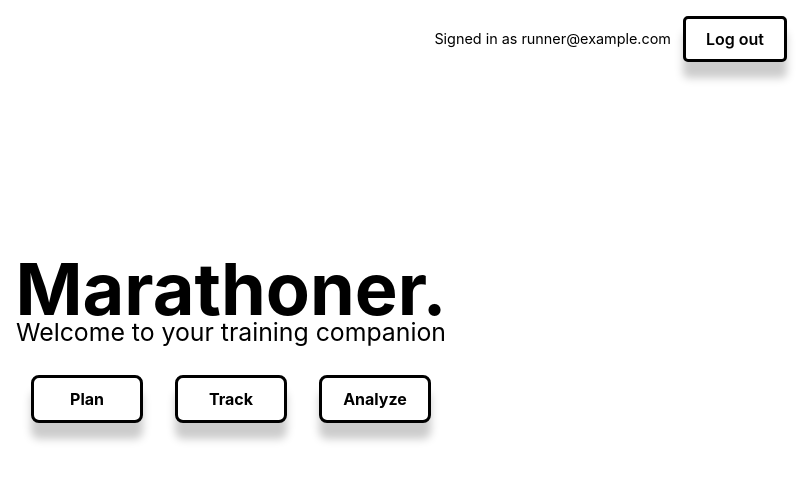
Test: App authentication state › shows a calm error when logout fails
Click the button "Log out".
click(735, 39)  # box [683,16,787,62]
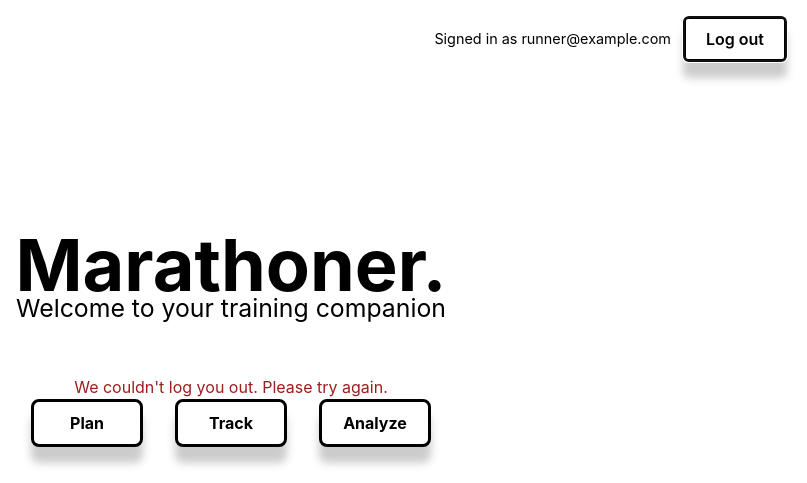
Result: the message reads "We couldn't log you out. Please try again." at [74,377,388,397]
